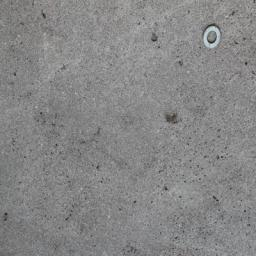FOD: (201, 24, 226, 52)
